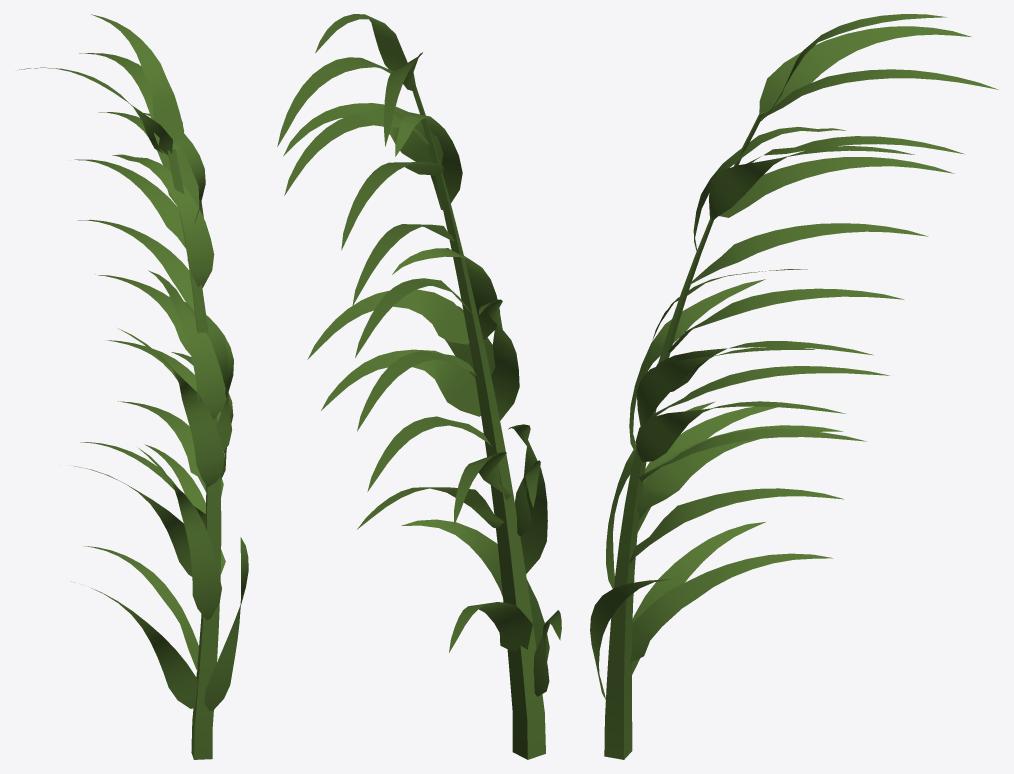
Rendered from plant_swamp_kelp_floor_bent_B.fbx.
The picture shows the model from 3 angles, left to right: view 1: azimuth 30°, elevation 25°; view 2: azimuth 150°, elevation 25°; view 3: azimuth 270°, elevation 25°; orthographic projection. The views are drawn at different scales.
Visible parts, largest first — view 1: plant_swamp_kelp_floor_bent_B; view 2: plant_swamp_kelp_floor_bent_B; view 3: plant_swamp_kelp_floor_bent_B.
Part boxes in pixels (x1,y1,x2,y2): plant_swamp_kelp_floor_bent_B: (17,14,248,759); plant_swamp_kelp_floor_bent_B: (277,14,561,759); plant_swamp_kelp_floor_bent_B: (590,14,998,759).
Size of the model in its own units: 63.96 by 248 by 122.
